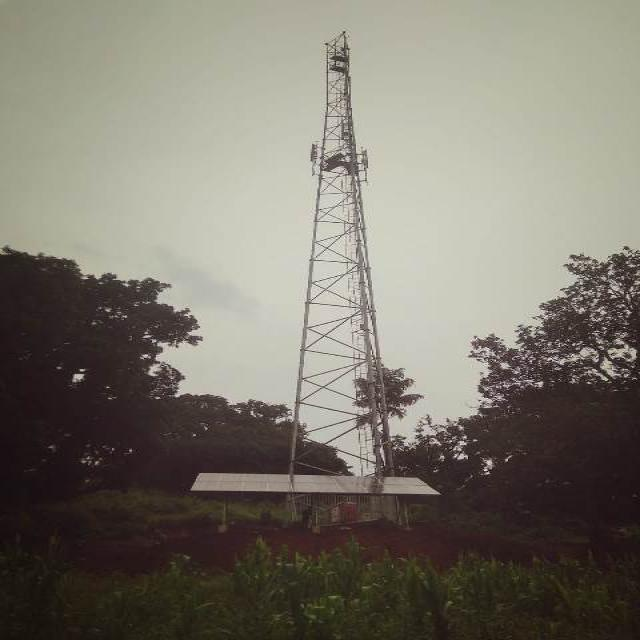GSM Antenna: (359, 141, 371, 174), (309, 140, 322, 167)
